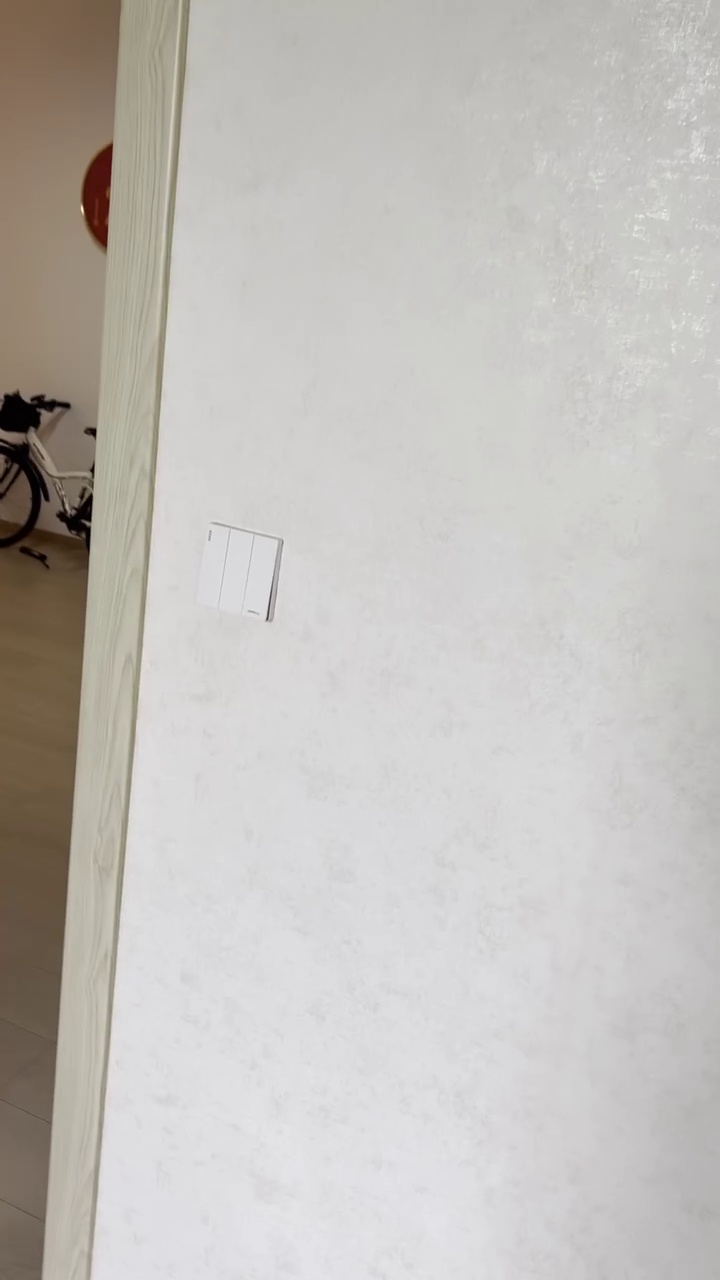button: (193, 515, 287, 624)
